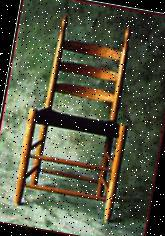Silla: (11, 13, 141, 222)
